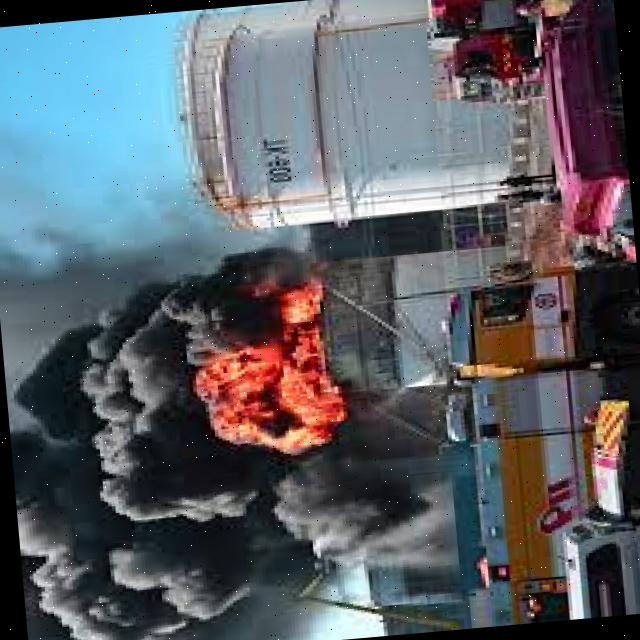explosion: (0, 206, 477, 640)
